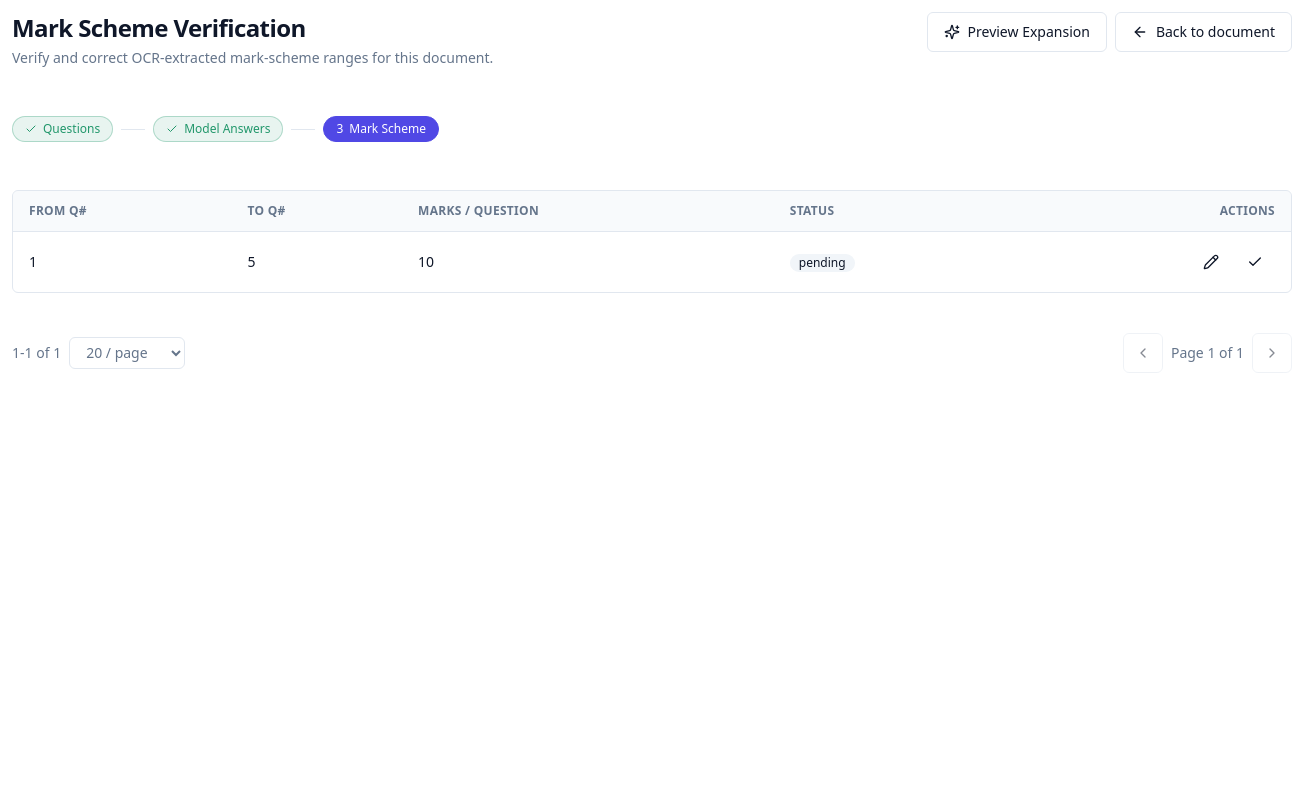
Test: MarkSchemeVerificationPage › previews the live mark-scheme expansion, rendering computed marks and warnings
Expected: the text "pending" is shown, [790,254,855,272]
Click the button "Preview Expansion".
click(1017, 32)  # box [927,12,1107,52]
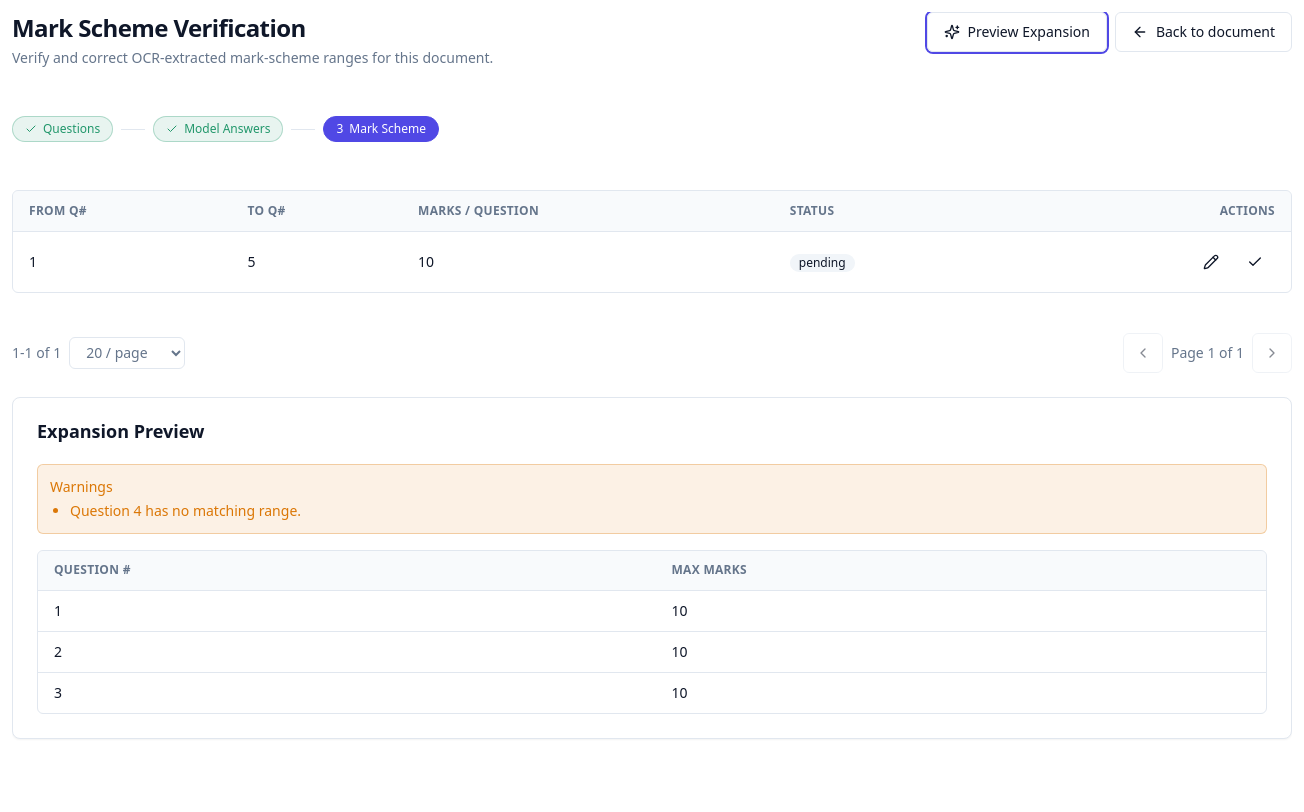
Expected: the heading "Expansion Preview" is shown, [37,418,204,442]
Expected: the list item "Question 4 has no matching range." is shown, [70,500,301,520]
Expected: the text "2" is shown, [38,632,656,672]
